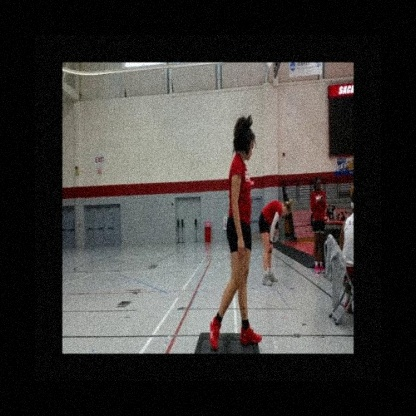lateral_flexion_left: (209, 111, 263, 354)
stance_width_broad: (209, 149, 262, 354)
